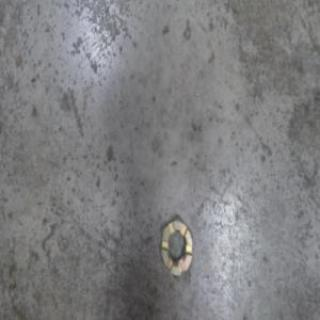Nuttrack_idkeyframe: (159, 213, 193, 278)
